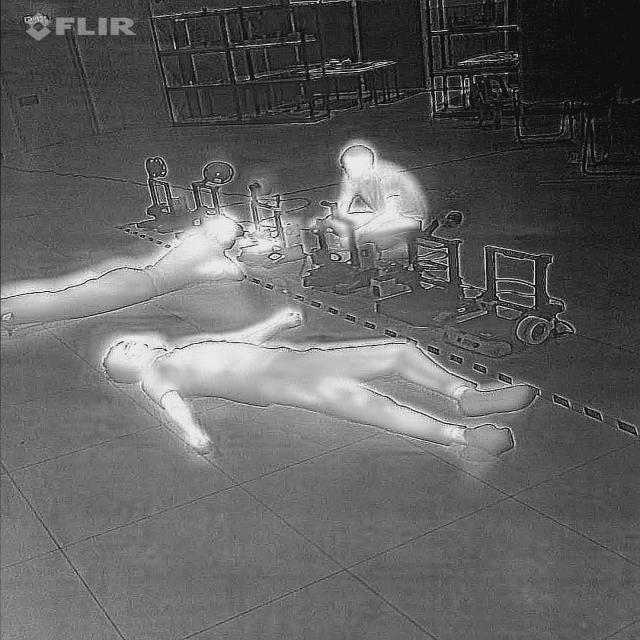Victim: (95, 308, 546, 477), (0, 200, 261, 342), (309, 140, 436, 253)
